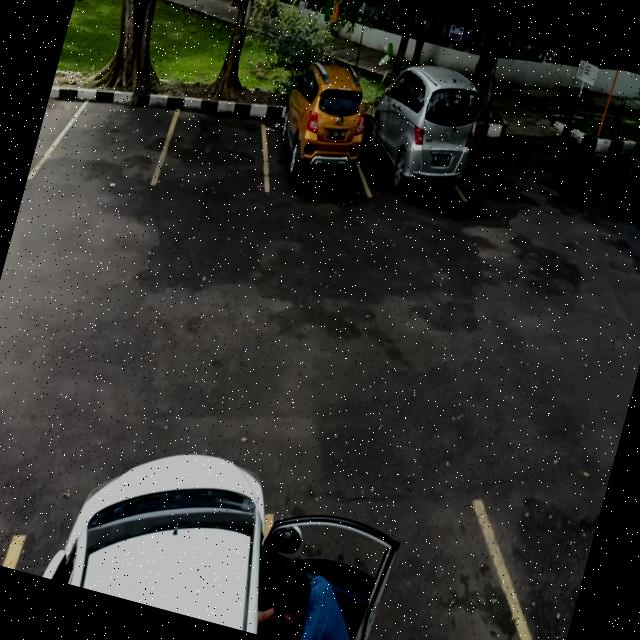empty: (42, 66, 182, 200), (151, 88, 280, 208)
occupied: (350, 90, 488, 222), (254, 84, 371, 211)
